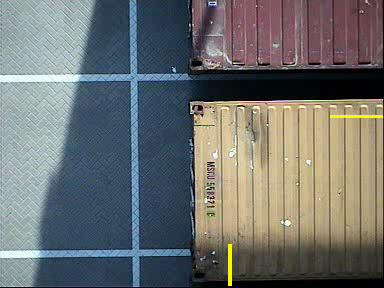groundmarker_2: (184, 1, 247, 92)
